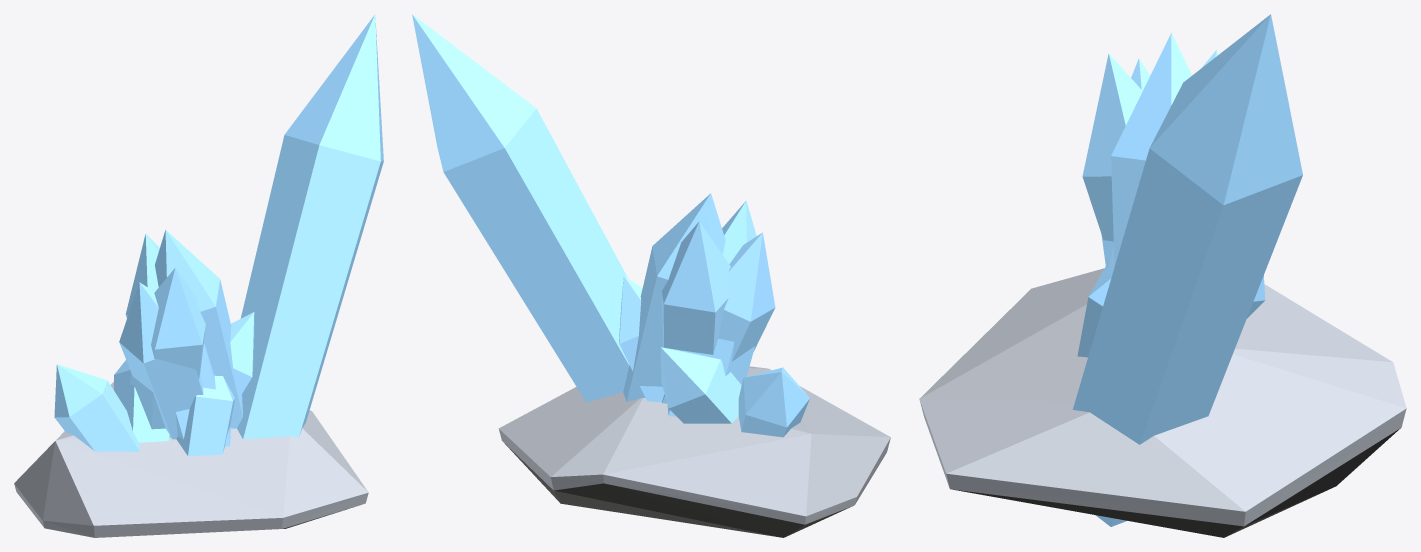
File: hielo_cristales.fbx
The picture shows the model from 3 angles, left to right: view 1: azimuth 30°, elevation 25°; view 2: azimuth 150°, elevation 25°; view 3: azimuth 270°, elevation 25°; orthographic projection. The views are drawn at different scales.
Visible parts, largest first — view 1: hielo_cristales; view 2: hielo_cristales; view 3: hielo_cristales.
Boxes of the visible parts, x1,y1,x2,y2 form: hielo_cristales: (14, 14, 383, 537); hielo_cristales: (412, 14, 890, 537); hielo_cristales: (919, 14, 1406, 537).
Size of the model in its own units: 3.31 by 3.58 by 2.55.
